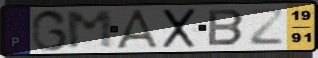A: (113, 8, 164, 50)
B: (206, 8, 246, 48)
G: (29, 8, 70, 53)
M: (64, 9, 116, 51)
X: (161, 7, 199, 50)
Z: (247, 8, 286, 47)
